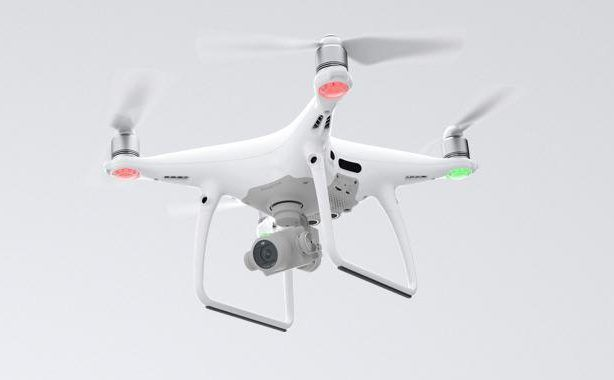drone: (74, 26, 531, 335)
